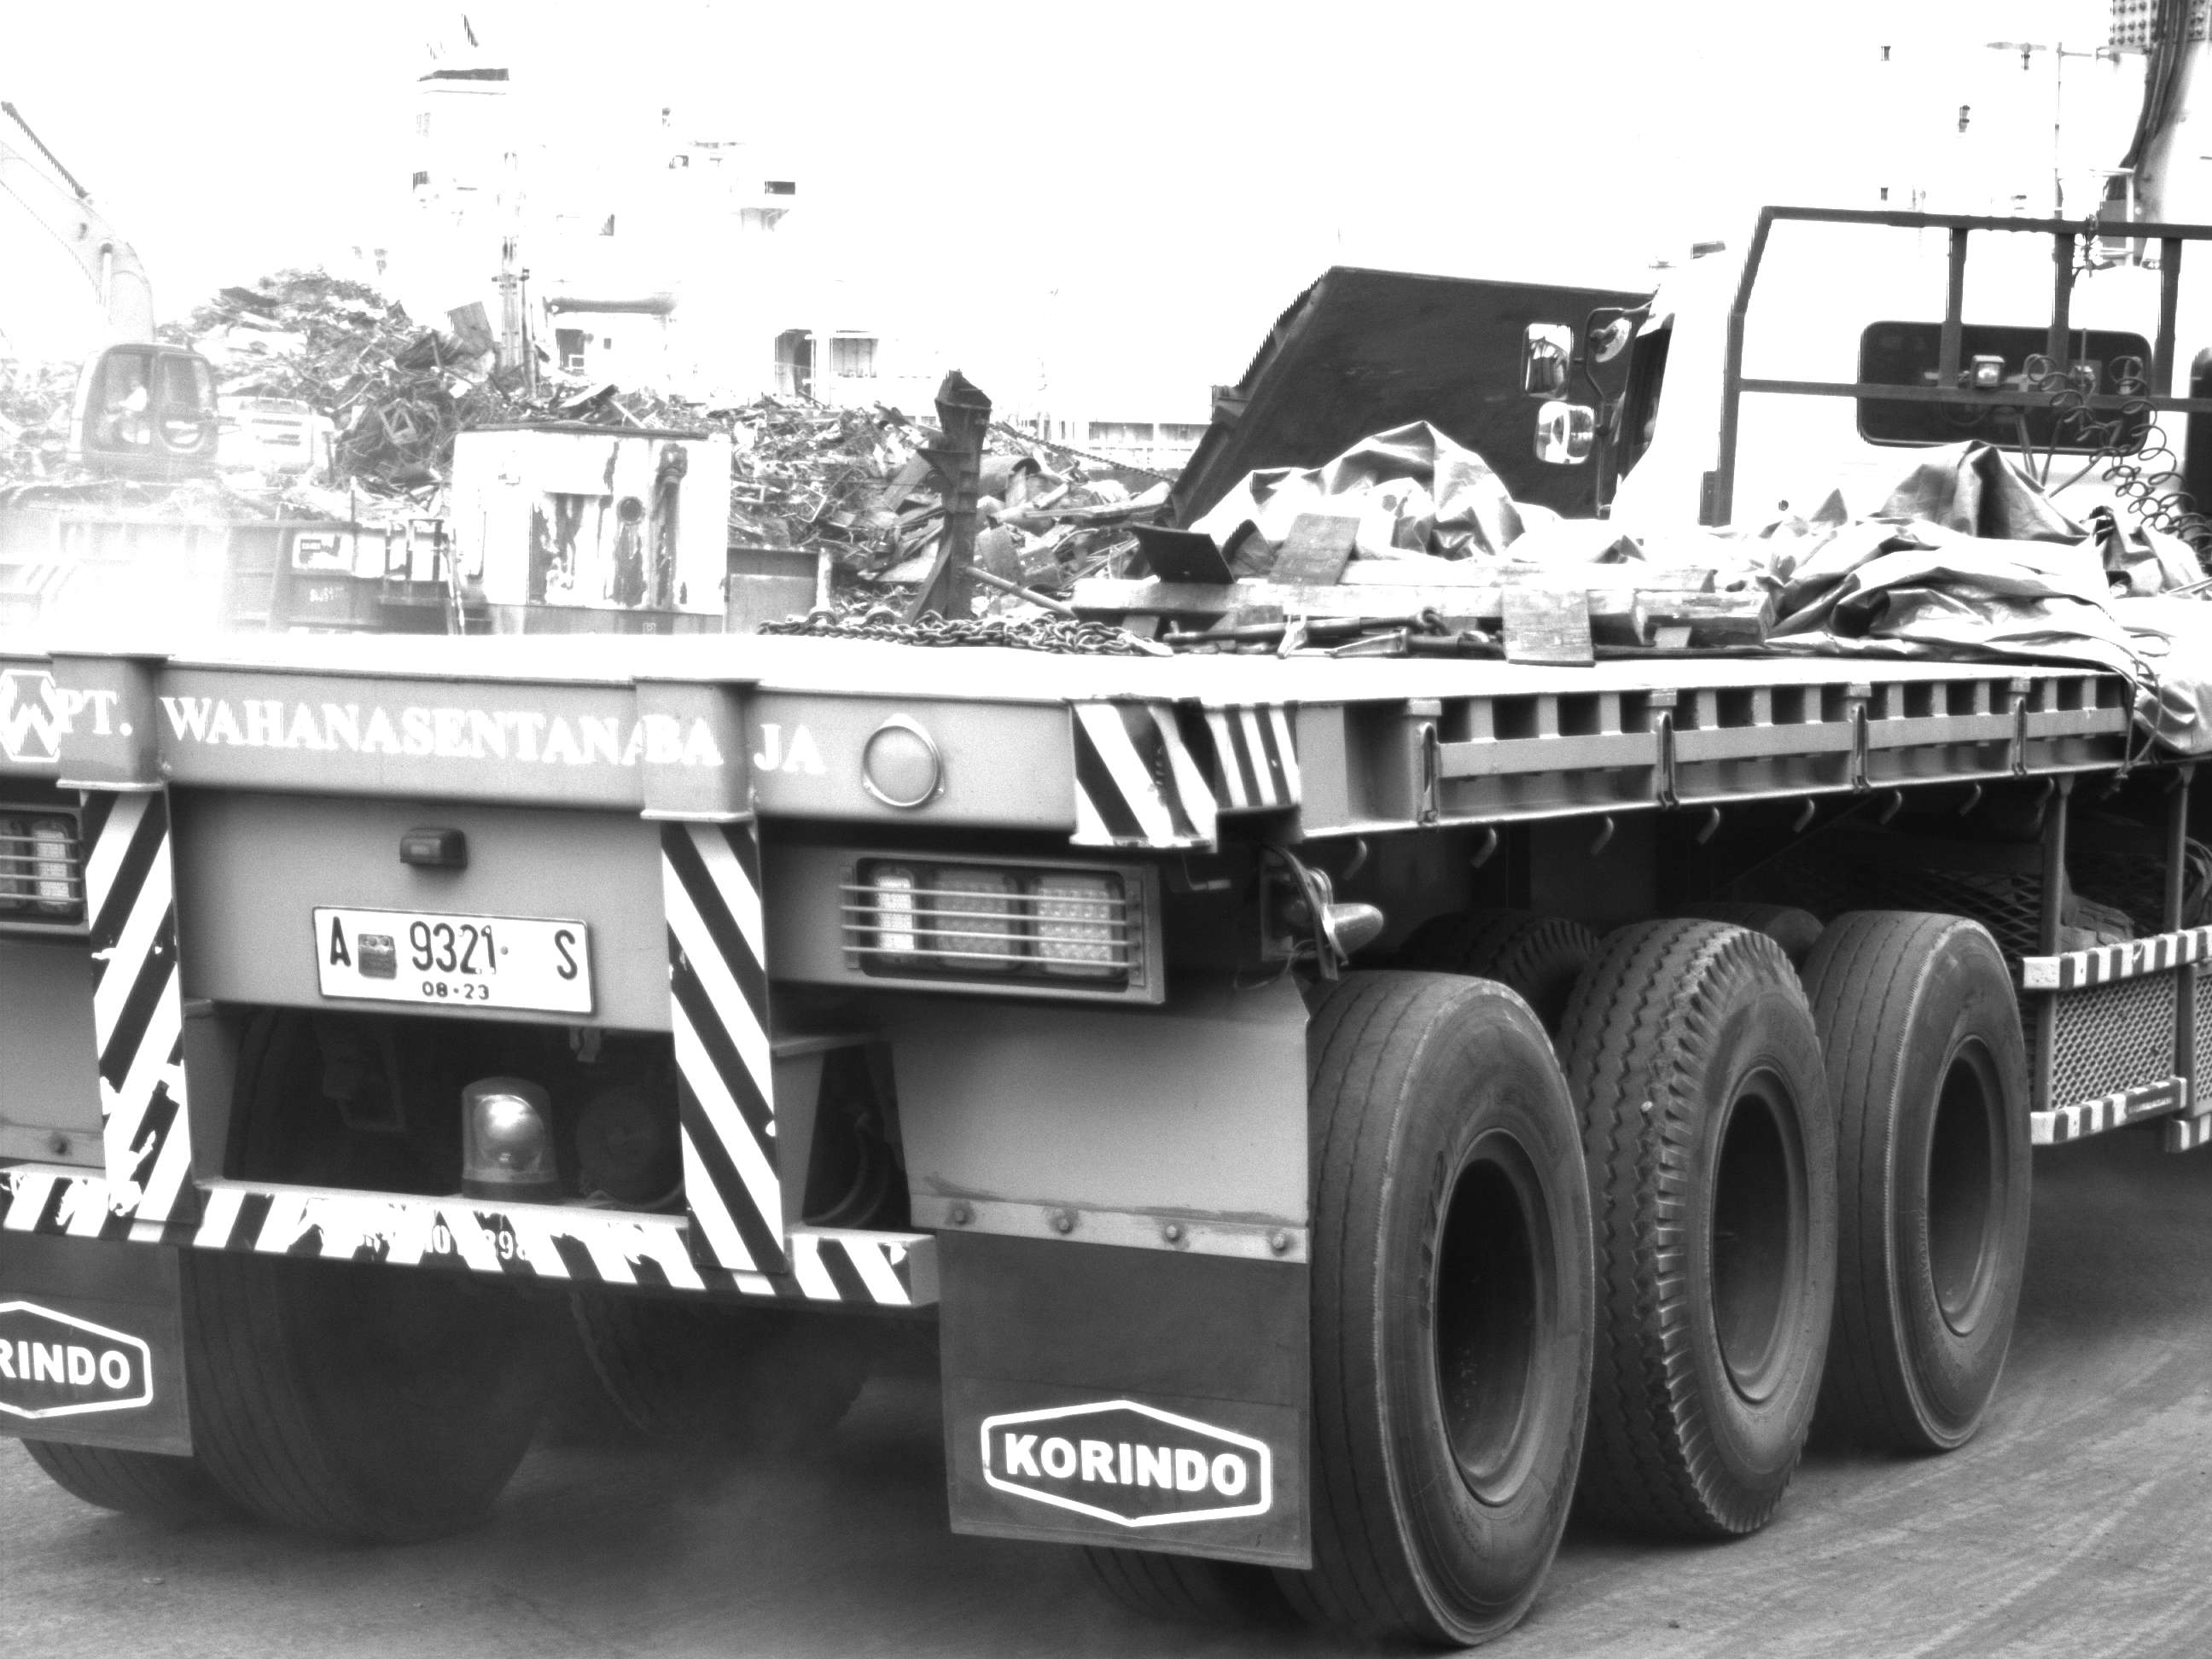number_plate: (308, 898, 600, 1029)
truck_backside: (2, 246, 2204, 1659)
